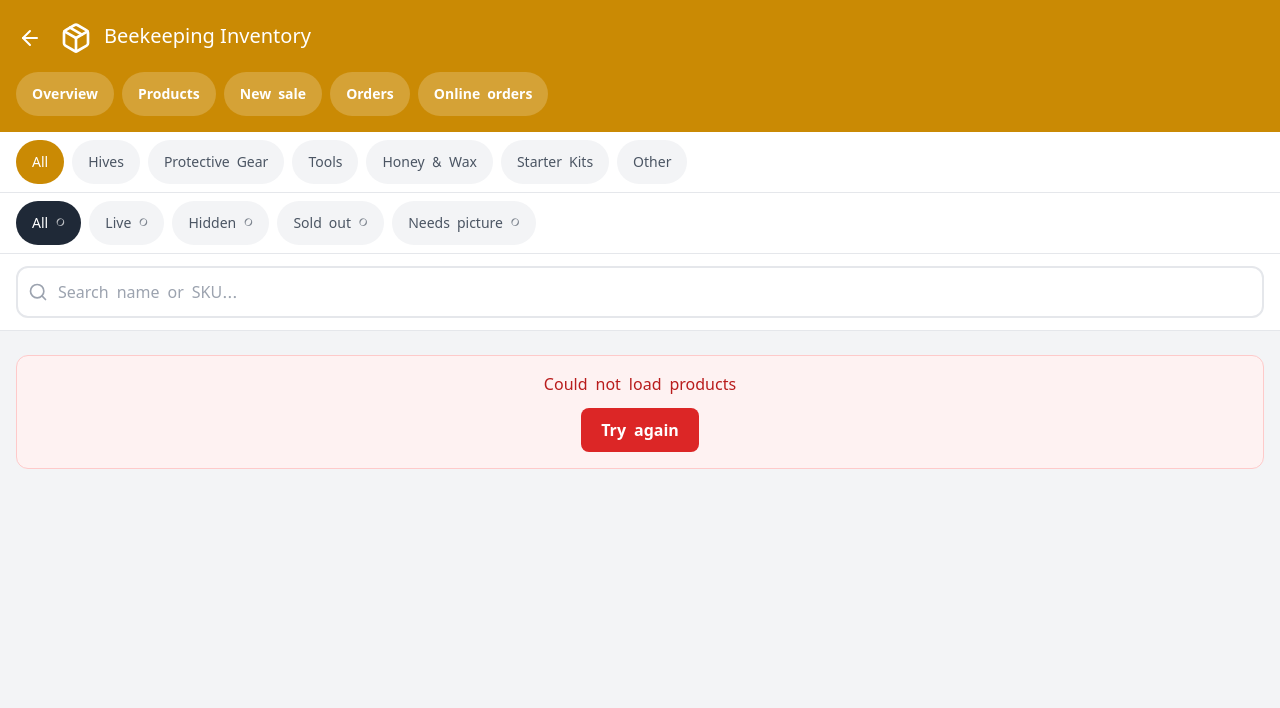
Test: BeekeepingInventoryPage › shows an error with a retry when products cannot load
The width and height of the screenshot is (1280, 708).
Check: the message shows "Could not load products", box [544,370,736,397]
Click the button "Try again" at (640, 430), box [581,408,699,452]
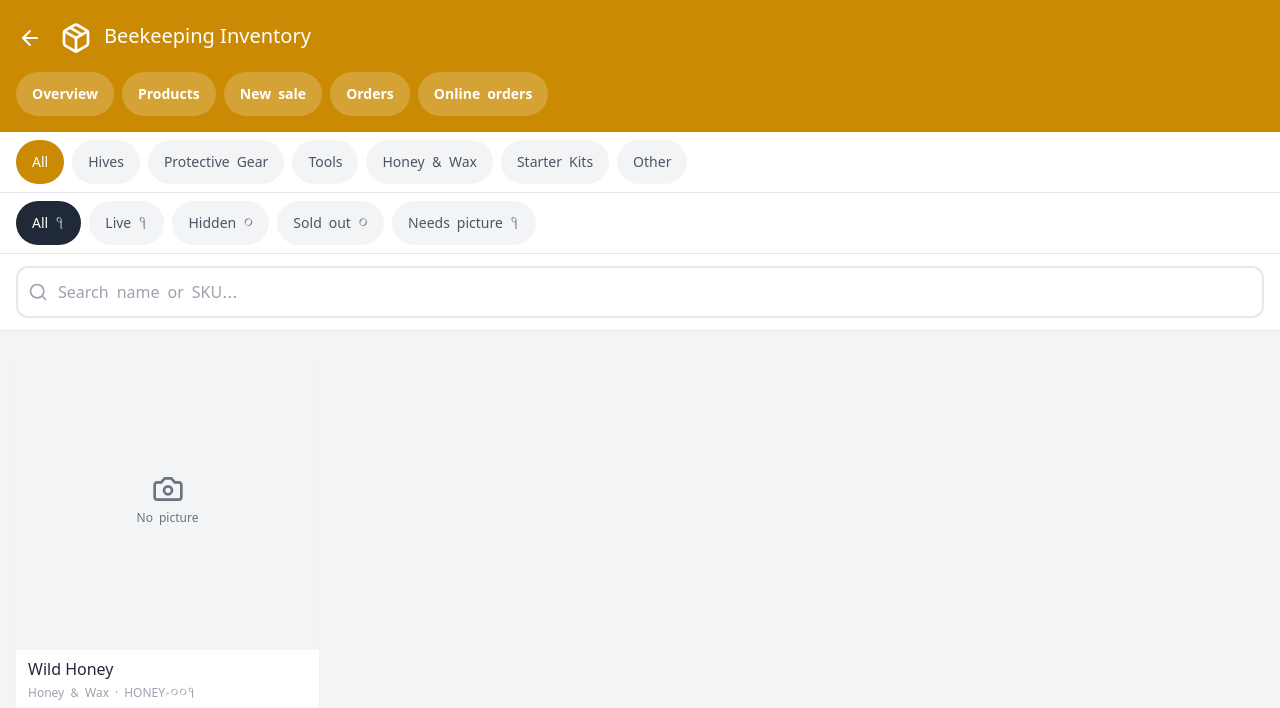
Check: the heading "Wild Honey" is shown, box [28,661,113,682]
